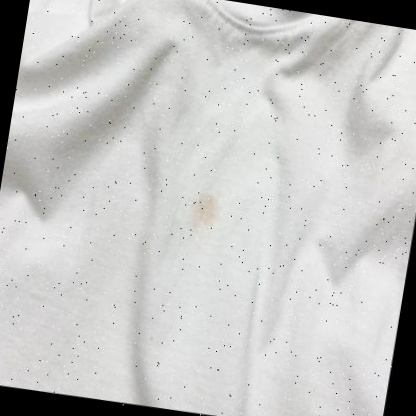coffee: (190, 192, 222, 228)
